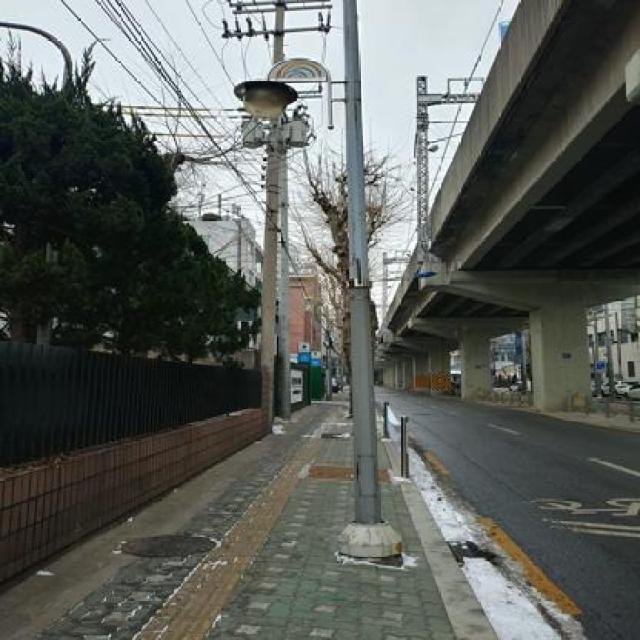pole: (320, 69, 405, 563)
